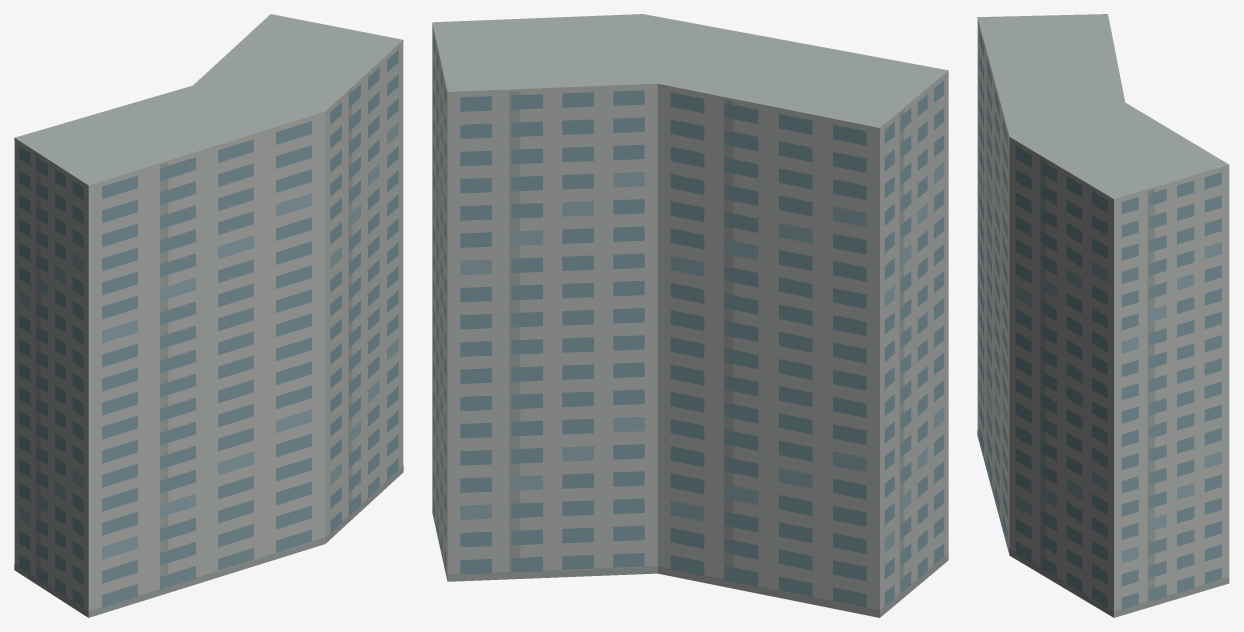
The model's file is residential-13f022df-7dea-42ee-8c20-874eb8b72688.glb.
The picture shows the model from 3 angles, left to right: view 1: azimuth 30°, elevation 25°; view 2: azimuth 150°, elevation 25°; view 3: azimuth 270°, elevation 25°; orthographic projection. The views are drawn at different scales.
Visible parts, largest first — view 1: residential-13f022df-7dea-42ee-8c20-874eb8b72688.tmp; view 2: residential-13f022df-7dea-42ee-8c20-874eb8b72688.tmp; view 3: residential-13f022df-7dea-42ee-8c20-874eb8b72688.tmp.
Part boxes in pixels (x1,y1,x2,y2): residential-13f022df-7dea-42ee-8c20-874eb8b72688.tmp: (14,14,403,617); residential-13f022df-7dea-42ee-8c20-874eb8b72688.tmp: (432,14,948,617); residential-13f022df-7dea-42ee-8c20-874eb8b72688.tmp: (977,14,1229,617).
Bounding box in the file's own units: 55.98 × 59 × 32.18.
